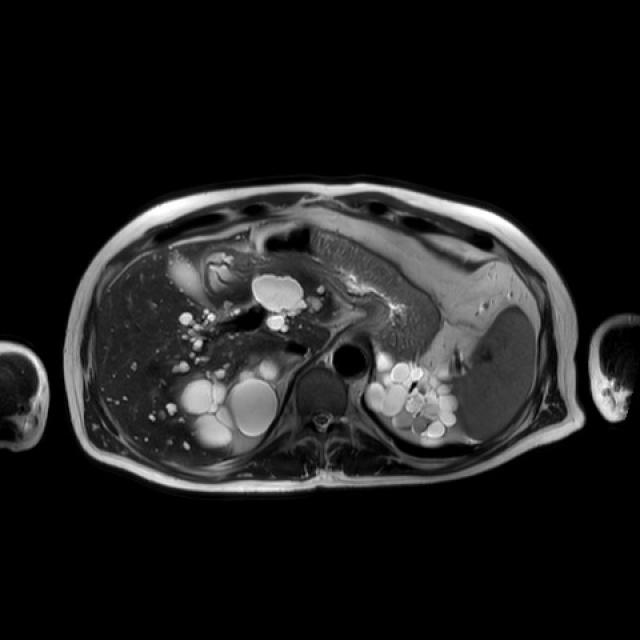sag: (179, 351, 286, 451)
sol: (364, 350, 462, 447)
